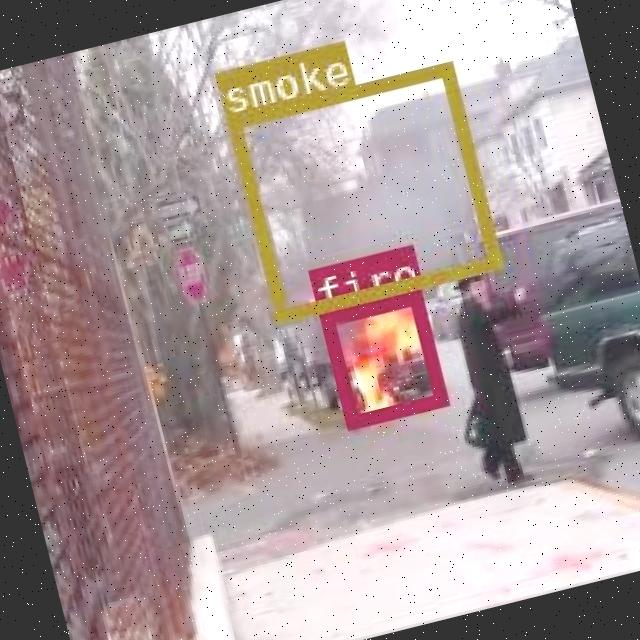fire: (316, 288, 446, 428)
smoke: (222, 60, 501, 322)
